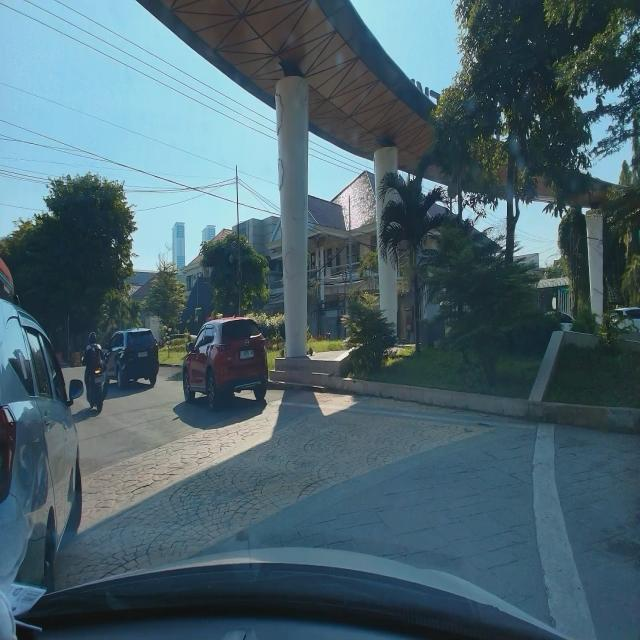car: (0, 292, 83, 589), (184, 312, 268, 405), (99, 325, 160, 390)
license-plate: (239, 349, 254, 359), (136, 350, 150, 358)
